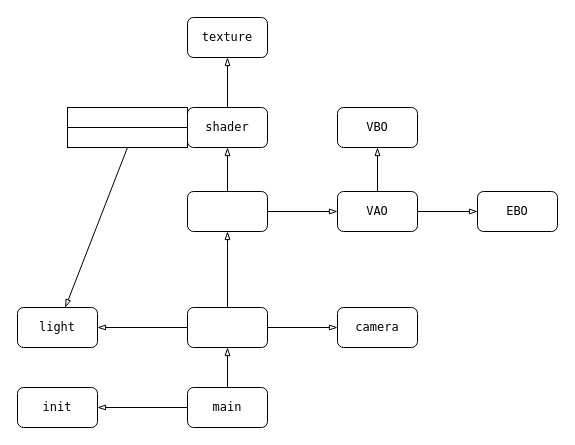
Image size: 575x445. Some labels were removed from this diagram. The centre of each missing label's shape, as x and y in pixels:
"model" belongs at (x=227, y=211).
"scene" belongs at (x=227, y=327).
"ShaderExtLight" belongs at (x=127, y=137).
"ShaderExtTexture" belongs at (x=127, y=117).
